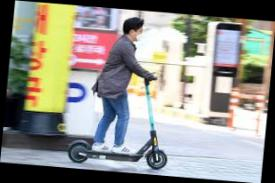nonhelmet: (65, 13, 182, 171)
